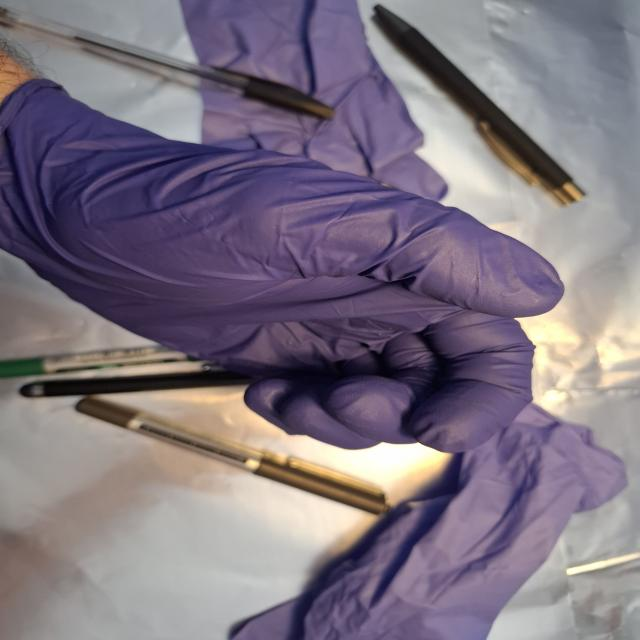glove_on: (0, 70, 570, 458)
